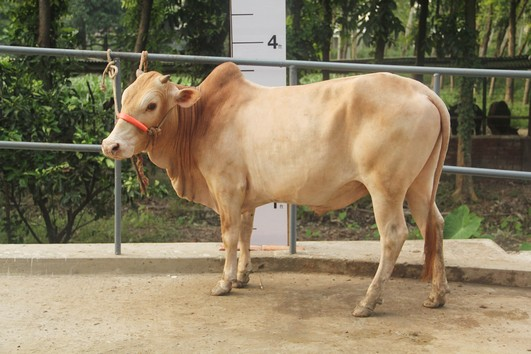cow: (97, 53, 462, 322)
